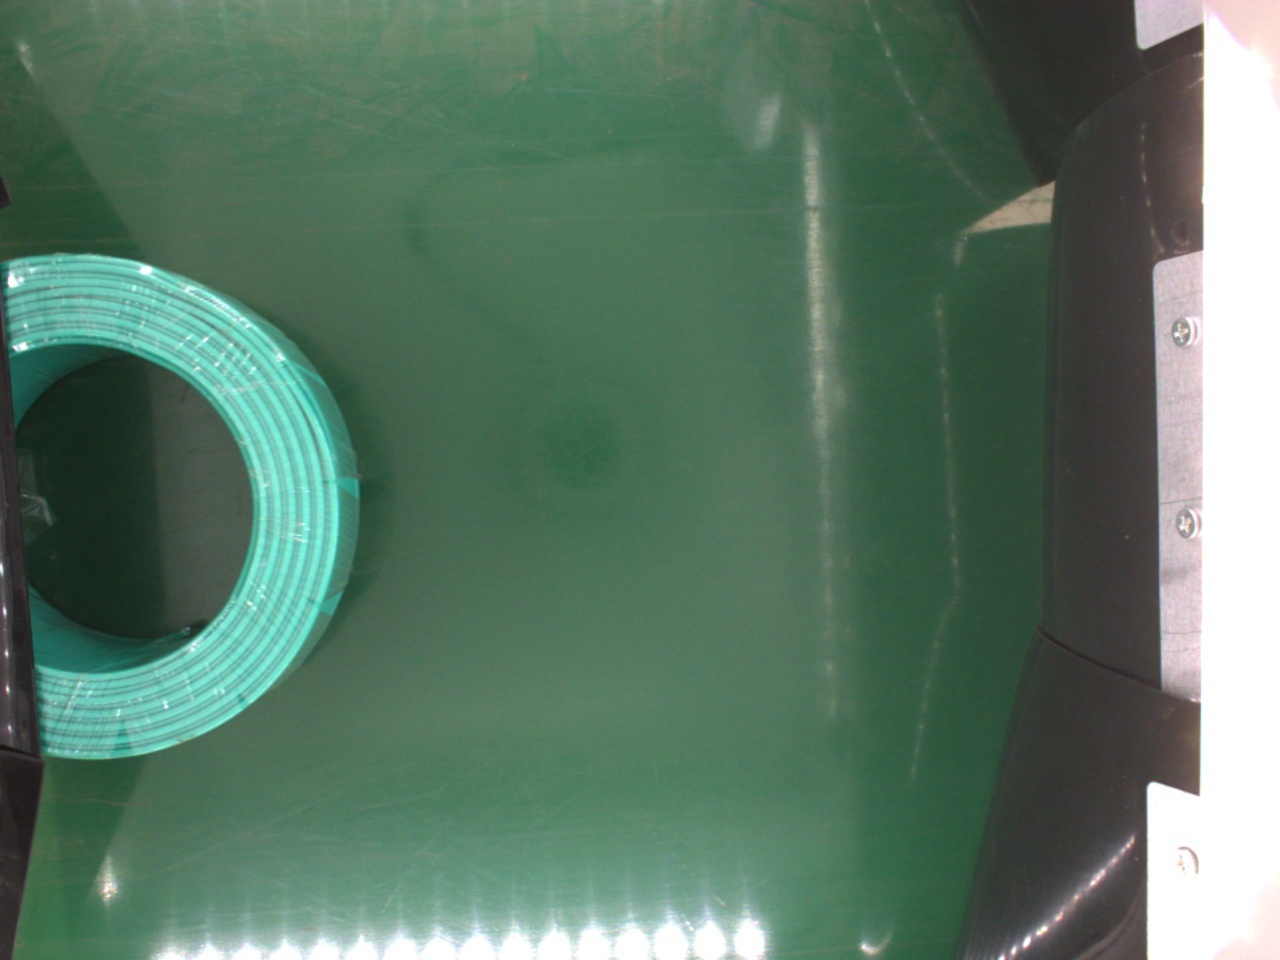green: (5, 251, 364, 766)
